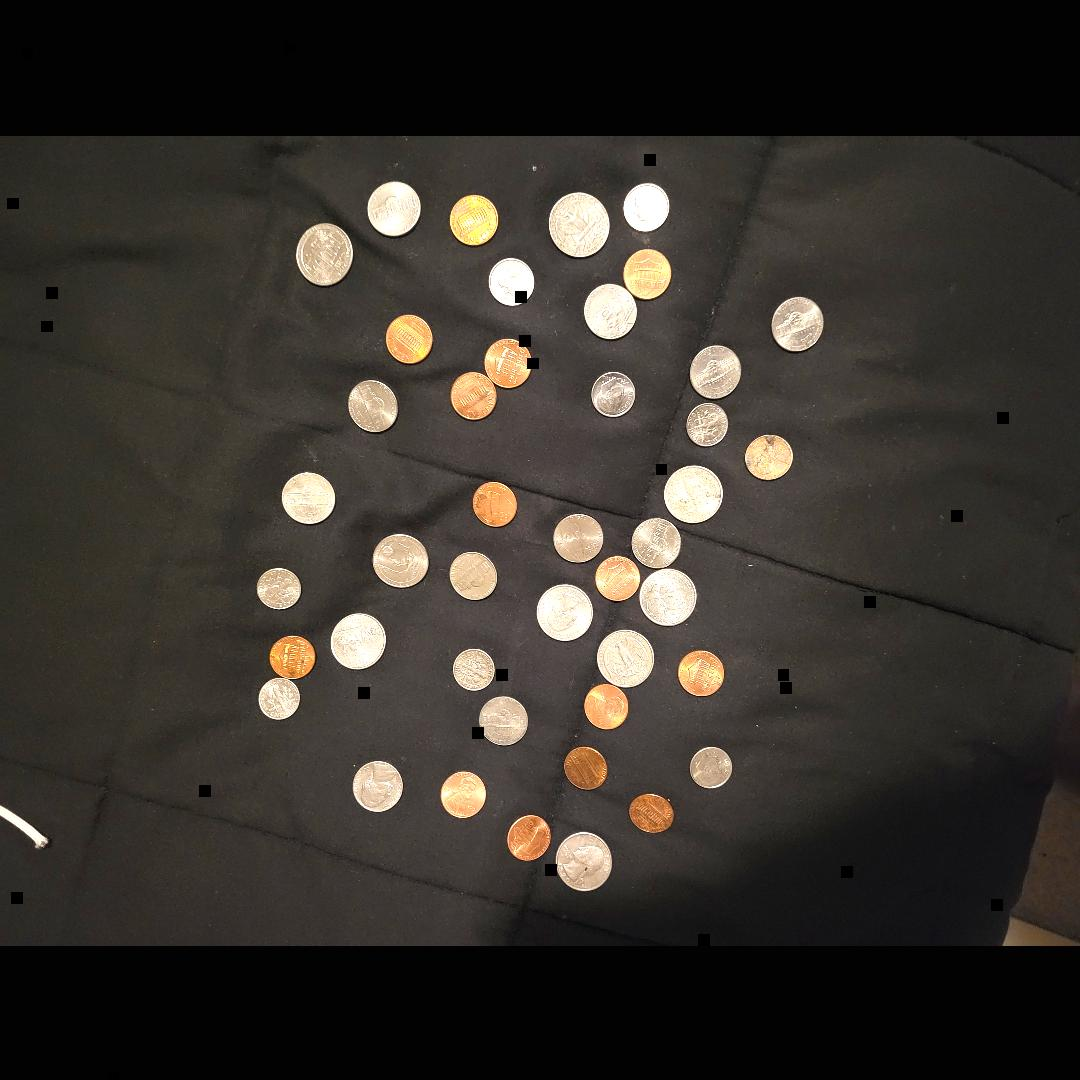Dime: (624, 184, 670, 232), (488, 256, 534, 304), (256, 566, 302, 609), (592, 371, 636, 414), (685, 403, 729, 445), (690, 745, 734, 787), (257, 678, 301, 720), (451, 648, 495, 690)
Nickel: (584, 282, 636, 338), (368, 183, 420, 235), (774, 296, 824, 349), (282, 472, 334, 522), (631, 517, 683, 567), (354, 759, 404, 809), (349, 380, 399, 430), (479, 695, 529, 745), (554, 511, 604, 561), (691, 346, 741, 396), (449, 549, 499, 599)
Penny: (744, 432, 793, 478), (450, 196, 496, 244), (486, 339, 532, 387), (679, 650, 725, 696), (624, 250, 670, 296), (472, 480, 518, 526), (594, 554, 640, 600), (583, 682, 629, 728), (506, 814, 552, 860), (440, 770, 486, 816), (388, 314, 432, 360), (450, 372, 494, 418), (562, 746, 608, 788), (271, 635, 316, 677), (630, 791, 675, 833)
Quarter: (294, 220, 353, 286), (556, 829, 614, 894), (664, 461, 724, 523), (550, 192, 608, 256), (640, 567, 698, 627), (596, 628, 654, 686), (536, 583, 592, 643), (370, 532, 429, 587), (330, 612, 386, 667)
